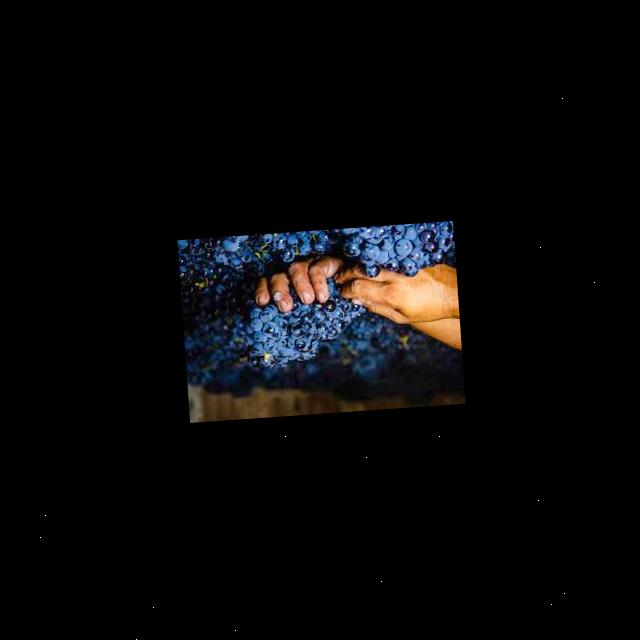grape: (176, 220, 462, 399)
